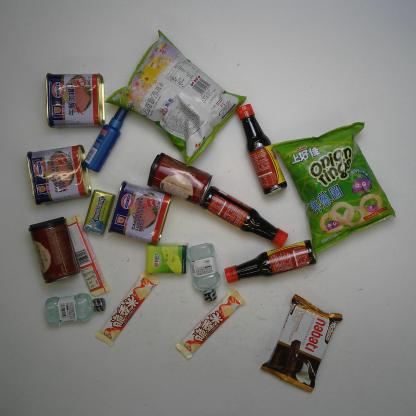Canned Food: (105, 178, 174, 248), (25, 142, 94, 209), (27, 214, 82, 287), (144, 150, 214, 207), (43, 70, 107, 131)
Chocolate: (173, 286, 250, 361), (93, 268, 161, 350), (62, 213, 111, 300)
Dessert: (256, 291, 347, 397)
Gum: (81, 188, 118, 236)
Personal Hygiene: (79, 104, 130, 174), (42, 292, 108, 330), (185, 241, 222, 303)
Puffed Food: (102, 26, 249, 170), (270, 120, 398, 258)
Seasoner: (198, 184, 290, 250), (233, 100, 289, 197), (222, 239, 320, 286)
Tissue: (143, 242, 189, 277)
